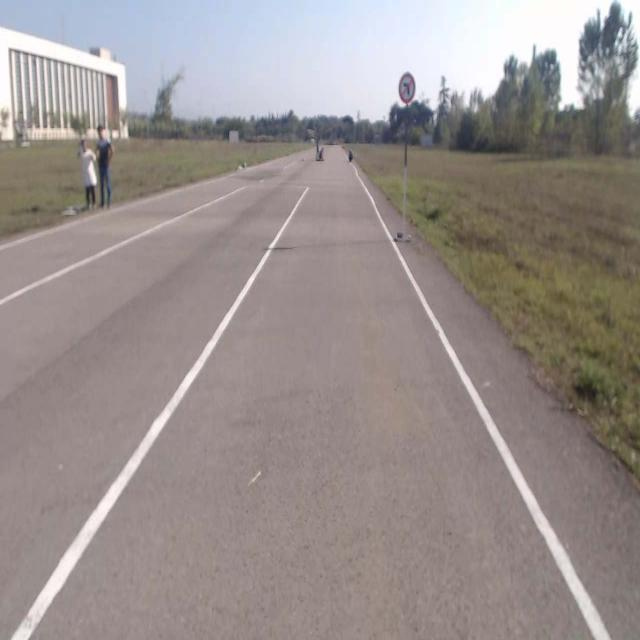soladonulmez: (399, 72, 414, 102)
